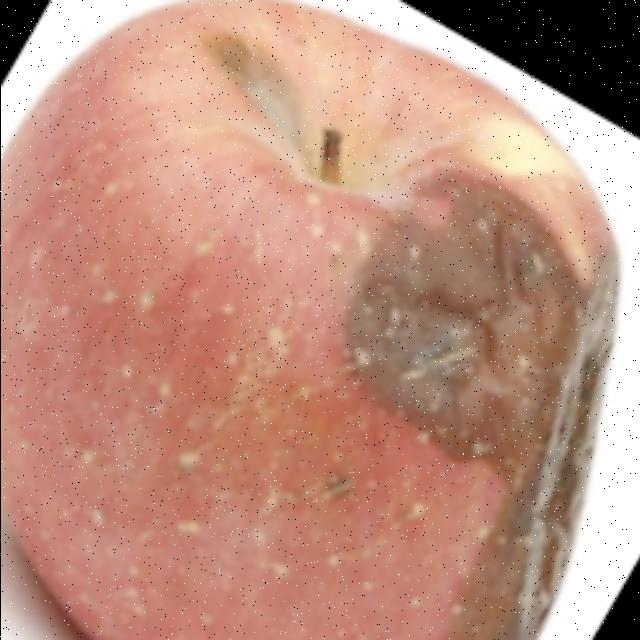Apel Segar: (0, 27, 300, 640)
Apel Tidak Segar: (188, 16, 610, 640)
